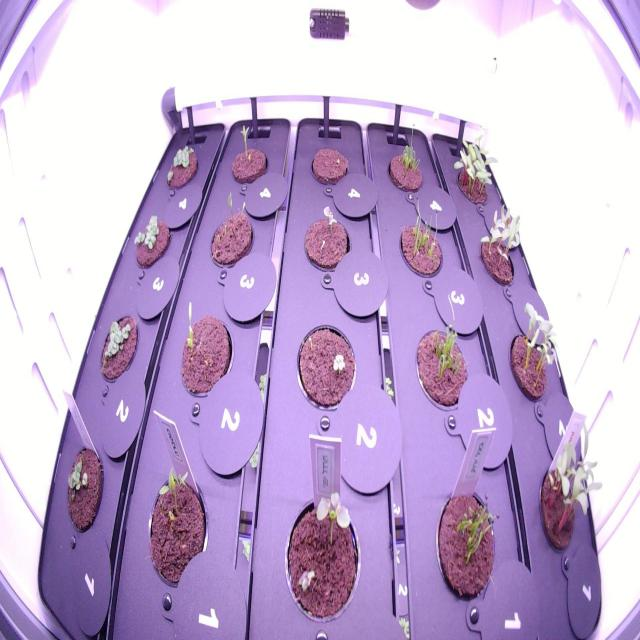germination: (279, 468, 368, 624), (423, 464, 507, 619), (534, 412, 608, 575), (138, 454, 214, 594), (404, 314, 478, 426), (174, 292, 238, 412), (504, 296, 566, 418), (291, 312, 362, 416), (468, 197, 531, 295), (388, 193, 452, 286), (203, 185, 263, 283), (60, 438, 110, 546), (448, 129, 502, 217), (92, 305, 143, 396), (379, 117, 433, 201), (302, 202, 354, 279), (225, 119, 274, 196), (128, 205, 177, 281), (161, 138, 203, 202)
pod: (304, 137, 355, 195)
